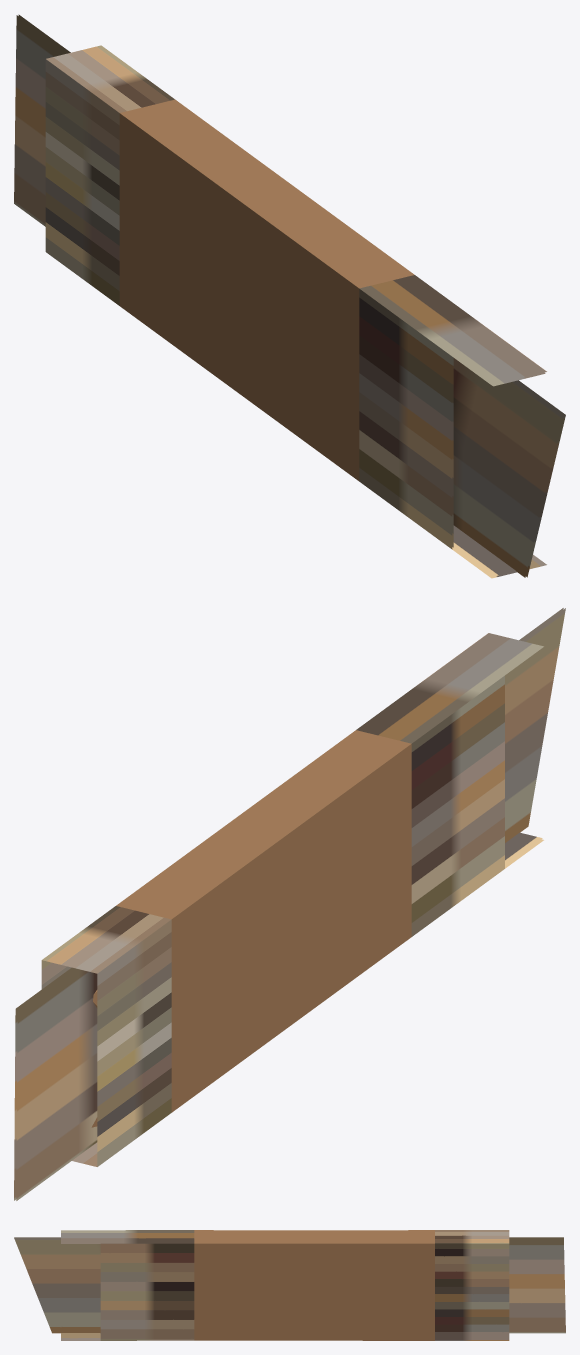
Rendered from DBK_WoodFrame_Alone_G.fbx.
3 renders of one model, top to bottom at view 1: azimuth 30°, elevation 25°; view 2: azimuth 150°, elevation 25°; view 3: azimuth 270°, elevation 25°, orthographic. The views are drawn at different scales.
Parts seen in each view (by area): view 1: DBK_WoodFrame_Alone_G; view 2: DBK_WoodFrame_Alone_G; view 3: DBK_WoodFrame_Alone_G.
Boxes of the visible parts, x1=… form: DBK_WoodFrame_Alone_G: x1=14, y1=14, x2=565, y2=578; DBK_WoodFrame_Alone_G: x1=14, y1=608, x2=565, y2=1200; DBK_WoodFrame_Alone_G: x1=14, y1=1230, x2=565, y2=1340.
Bounding box in the file's own units: 5 × 16.58 × 85.47.
